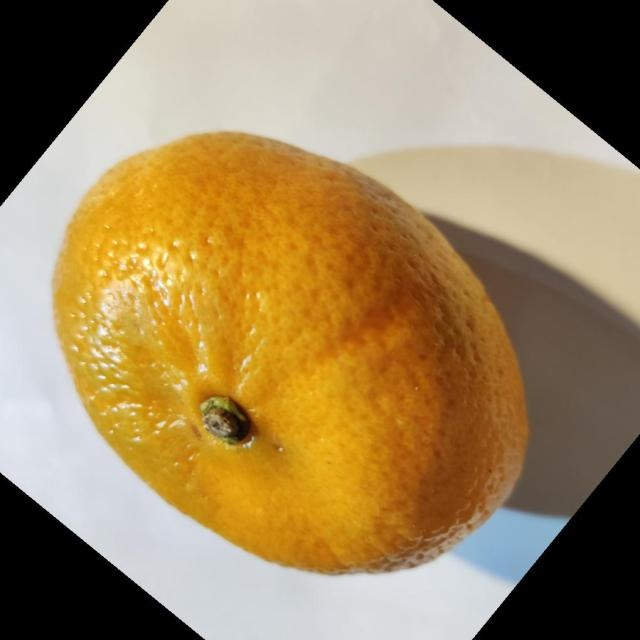agrume: (50, 129, 531, 576)
